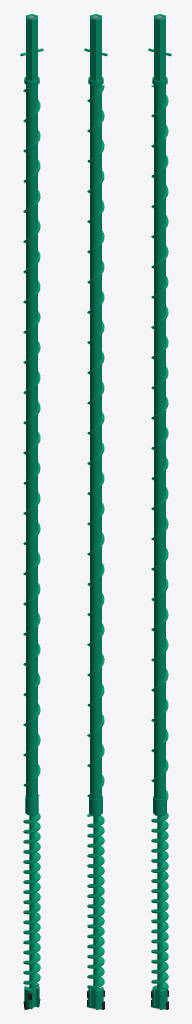
File: auger_bit.glb
3 renders of one model, left to right at view 1: azimuth 30°, elevation 25°; view 2: azimuth 150°, elevation 25°; view 3: azimuth 330°, elevation 25°, orthographic.
Parts seen in each view (by area): view 1: Transport_Core_Tube, Transport_Helix_Flight, Sampling_Flight, Hex_Drive_Shank, Sampling_Root_Shaft, Bit_Crown_Body, Joint_Coupling; view 2: Transport_Core_Tube, Transport_Helix_Flight, Sampling_Flight, Hex_Drive_Shank, Sampling_Root_Shaft, Bit_Crown_Body, Joint_Coupling; view 3: Transport_Core_Tube, Transport_Helix_Flight, Sampling_Flight, Hex_Drive_Shank, Sampling_Root_Shaft, Bit_Crown_Body, Joint_Coupling.
Part boxes in pixels (left/top/right/bottom): Transport_Core_Tube: left=26, top=85, right=37, bottom=798; Transport_Helix_Flight: left=23, top=87, right=40, bottom=795; Sampling_Flight: left=23, top=813, right=40, bottom=986; Hex_Drive_Shank: left=24, top=14, right=39, bottom=86; Sampling_Root_Shaft: left=29, top=815, right=34, bottom=988; Bit_Crown_Body: left=24, top=985, right=39, bottom=1009; Joint_Coupling: left=25, top=795, right=38, bottom=811; Transport_Core_Tube: left=90, top=85, right=101, bottom=799; Transport_Helix_Flight: left=87, top=85, right=104, bottom=796; Sampling_Flight: left=87, top=813, right=104, bottom=988; Hex_Drive_Shank: left=88, top=14, right=103, bottom=86; Sampling_Root_Shaft: left=93, top=816, right=98, bottom=989; Bit_Crown_Body: left=88, top=985, right=103, bottom=1009; Joint_Coupling: left=89, top=796, right=102, bottom=812; Transport_Core_Tube: left=154, top=85, right=165, bottom=799; Transport_Helix_Flight: left=151, top=85, right=168, bottom=800; Sampling_Flight: left=151, top=813, right=168, bottom=989; Hex_Drive_Shank: left=152, top=14, right=167, bottom=86; Sampling_Root_Shaft: left=157, top=816, right=162, bottom=989; Bit_Crown_Body: left=152, top=985, right=167, bottom=1009; Joint_Coupling: left=153, top=796, right=166, bottom=812.
Bounding box in the file's own units: 0.0296 × 1.28 × 0.02.
